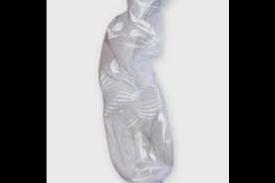Plastic: (95, 0, 189, 182)
